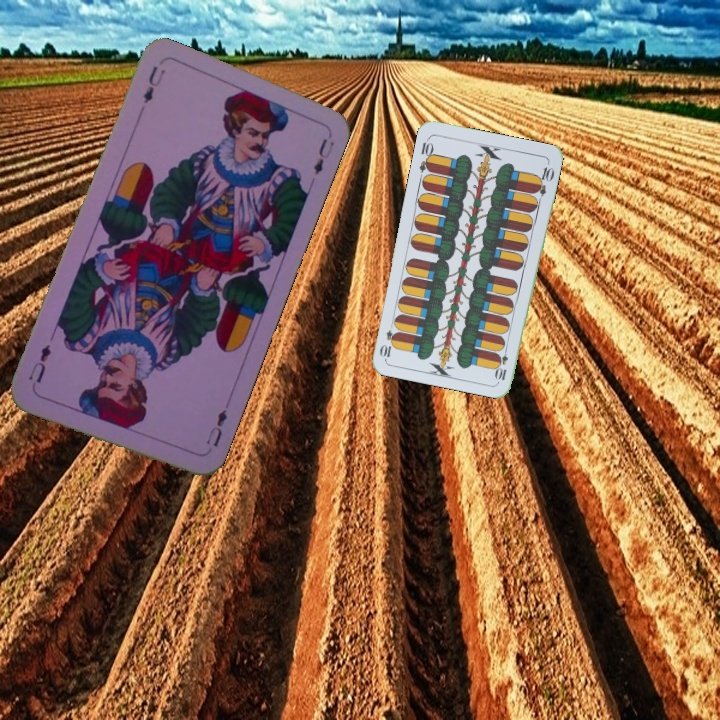E10: (415, 134, 436, 175), (493, 342, 510, 383)
EU: (201, 405, 230, 450), (139, 62, 167, 106)
